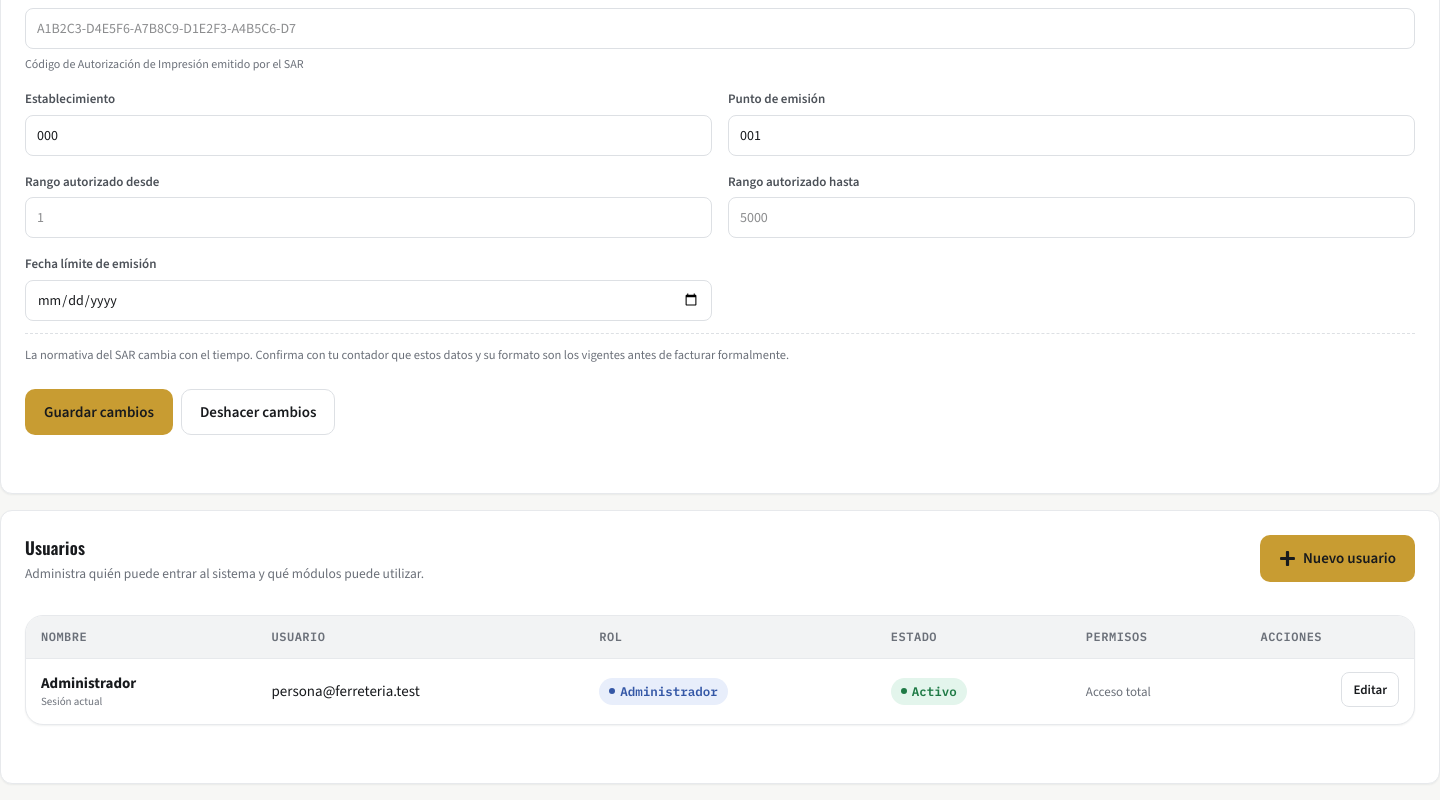
Test: Settings: usuarios › el rol contador ofrece solo las secciones de consulta
(page scrolled)
Click the button "Nuevo usuario": (1338, 558) [1260,535,1415,582]
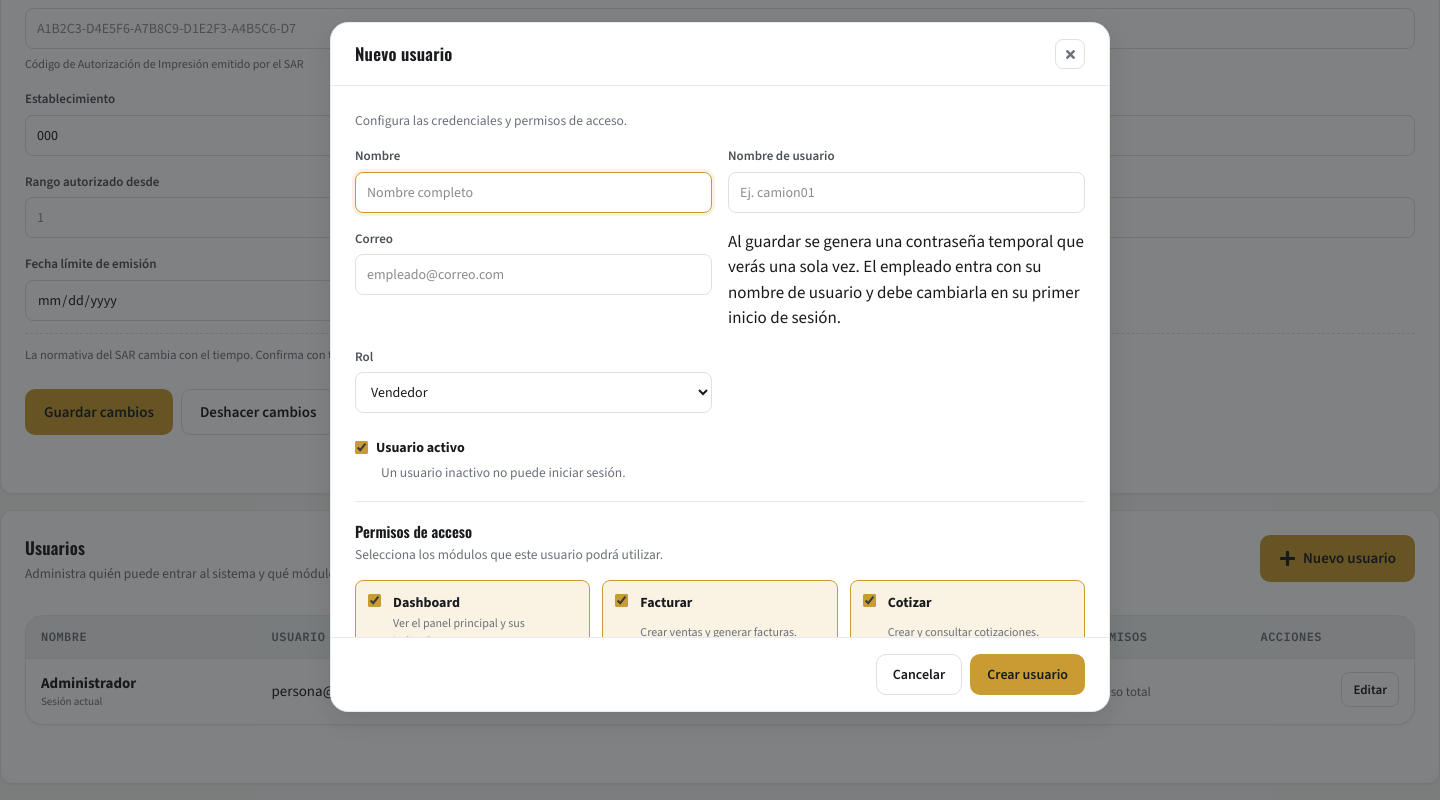
Select "Contador (solo consulta)" in the dropdown labelled "Rol": (534, 393) [355,372,712,413]
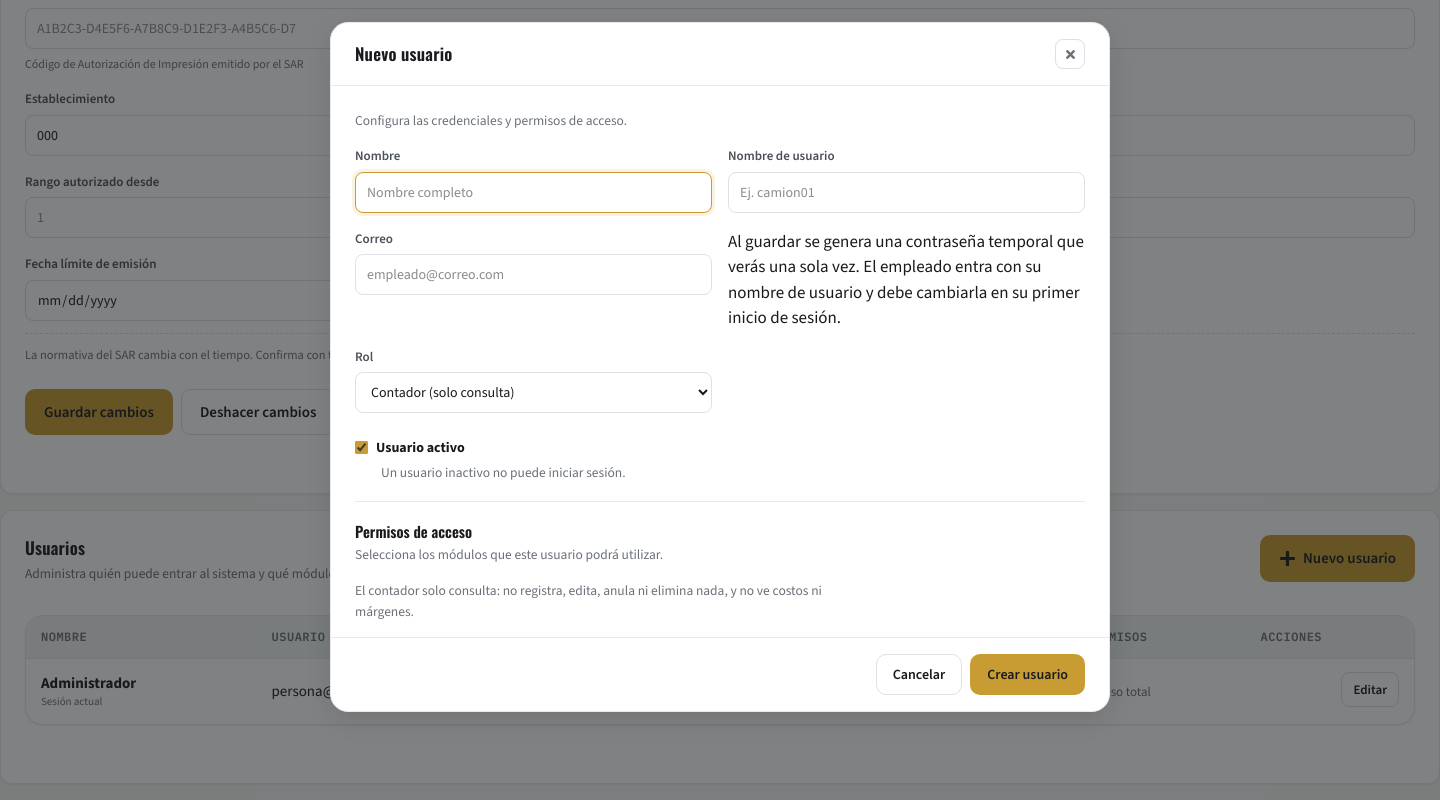
Expected: the text "Facturar" is not shown
Now the text "El contador solo consulta" is shown, box [355,581,822,620]
